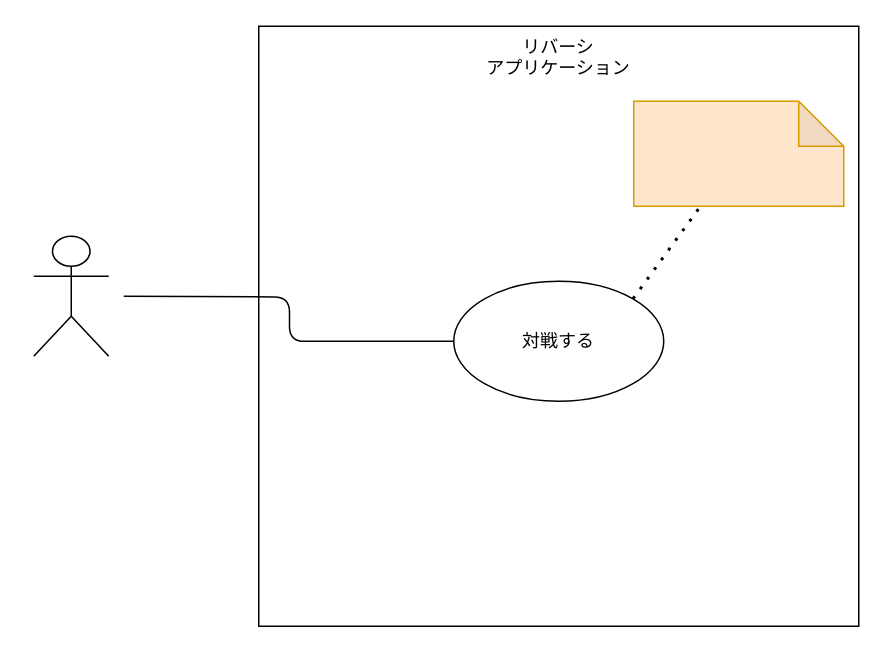
Some shapes in this 885 by 653 pixel diagram are drawn without their labels. Here are the shapes that lost their labels. From the top down, the box of each, then its label:
(632, 100, 844, 206): ・対戦する ・石を打つ ・碁盤を見る
(32, 235, 109, 356): プレイヤー
